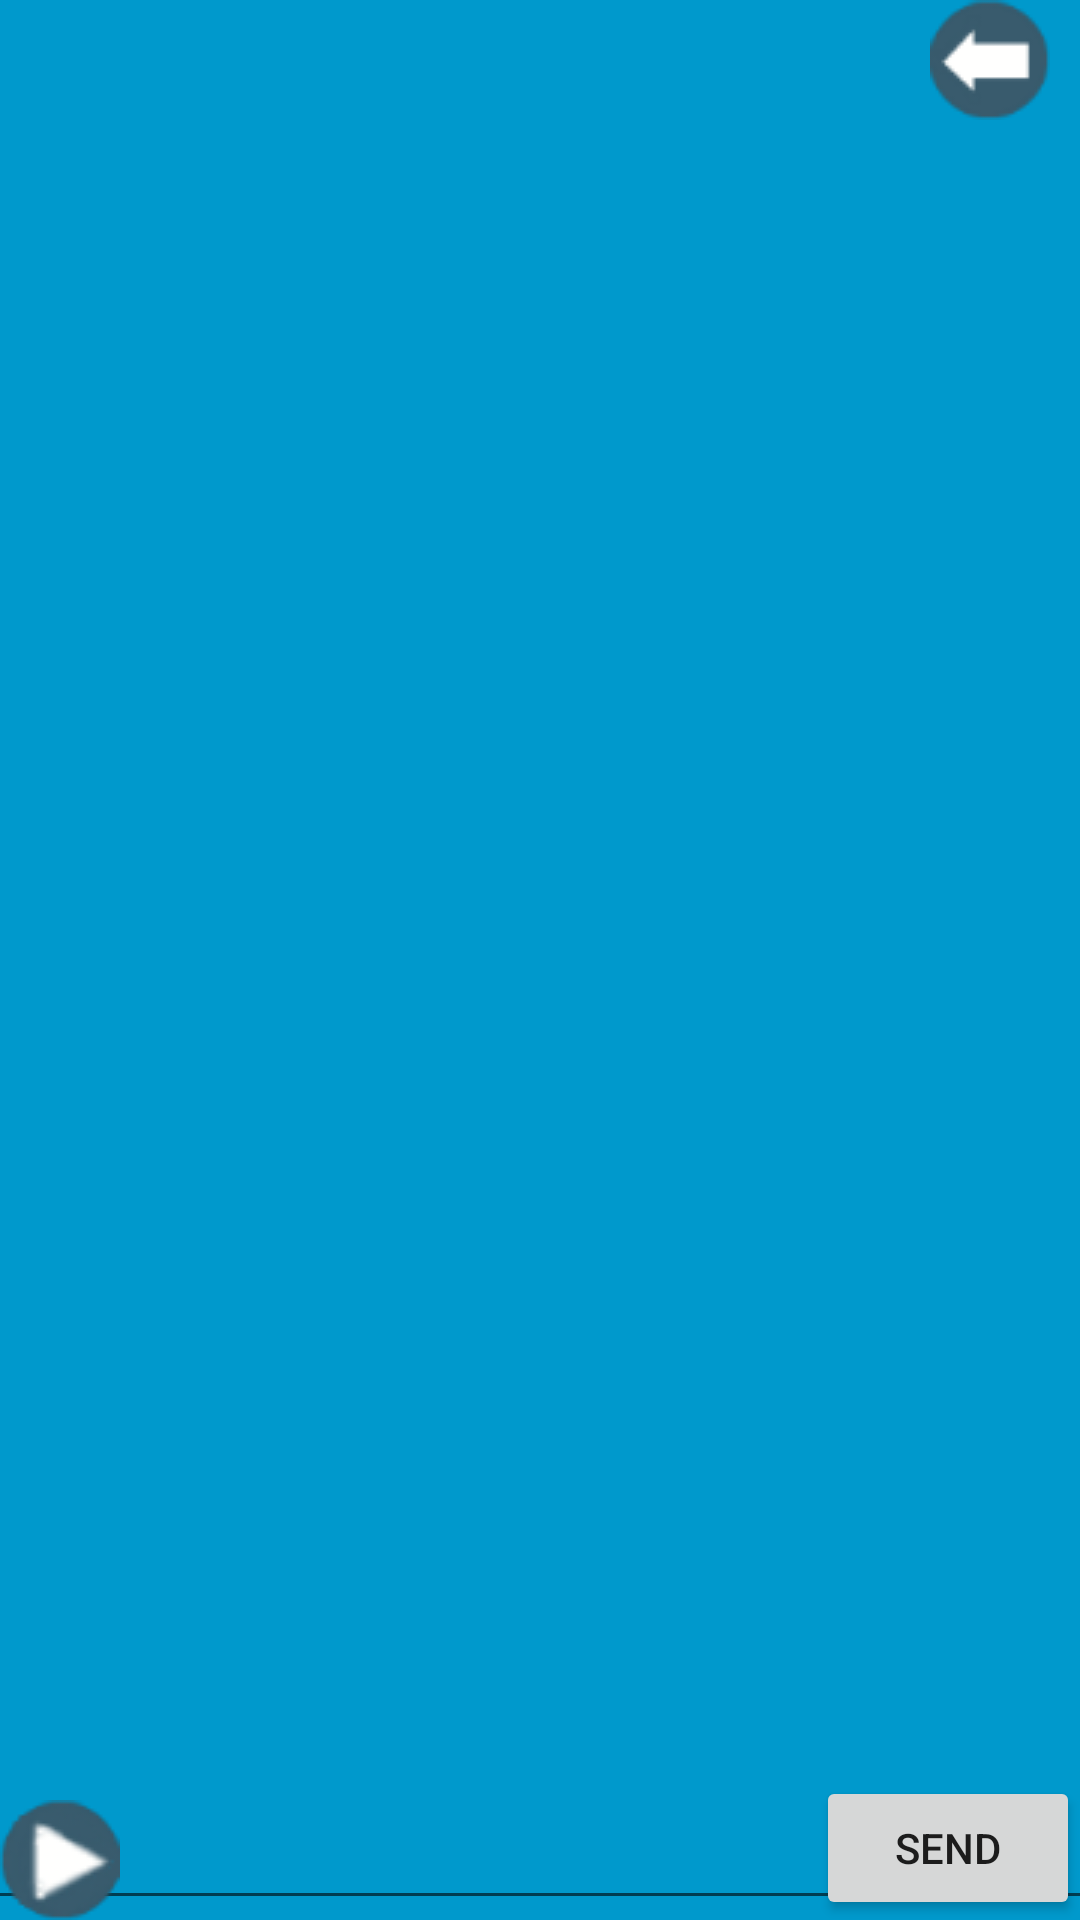

Where to tap for icons on this 1080x1920 app screen, as point (x, y):
Back for previous activity button: point (989, 59)
Start playing button: point (60, 1859)
